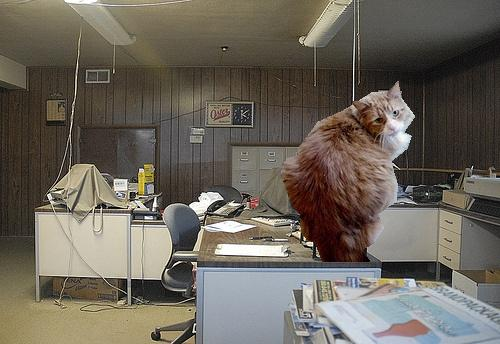tampered: (281, 82, 415, 262)
